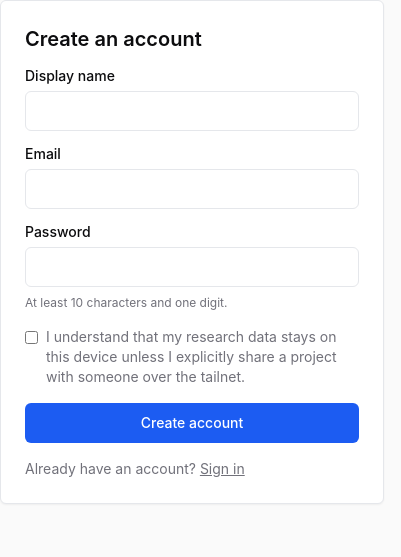
SignupForm › rejects weak passwords client-side
Click the checkbox with test id "signup-tos". click: {"x": 32, "y": 338}
box: x1=25 y1=331 x2=38 y2=344
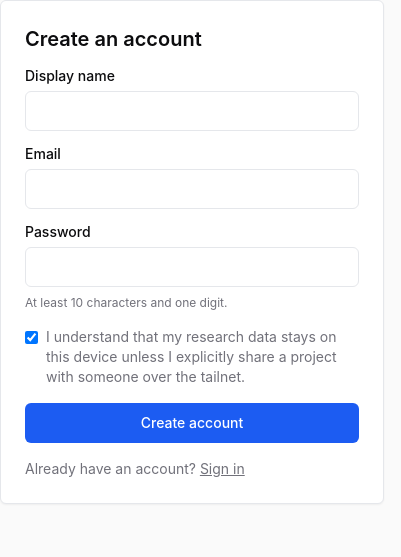
Type "Alice" into the field labelled "Display name". click: {"x": 192, "y": 111}
box: x1=25 y1=91 x2=359 y2=131
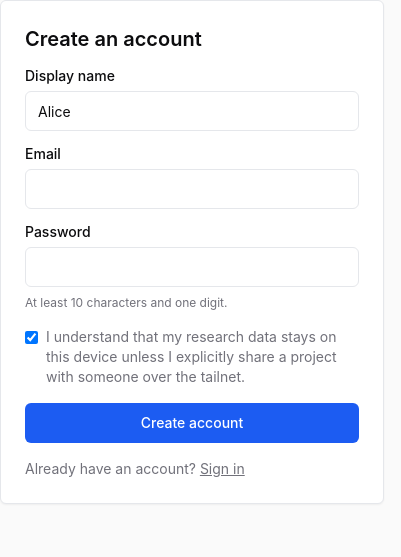
Type "a@b.com" into the field labelled "Email". click: {"x": 192, "y": 189}
box: x1=25 y1=169 x2=359 y2=209
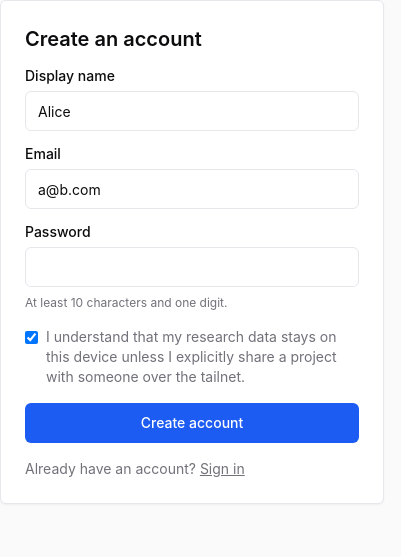
Type "short" into the password field labelled "Password". click: {"x": 192, "y": 267}
box: x1=25 y1=247 x2=359 y2=287
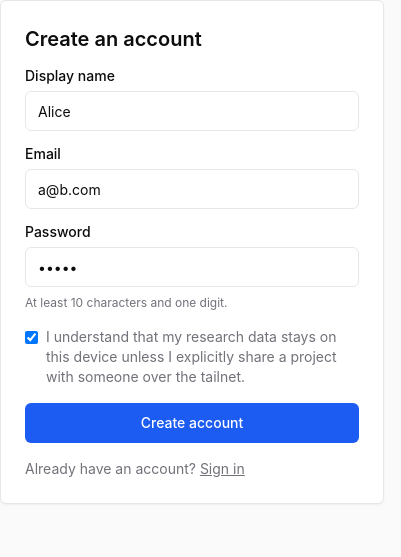
Submit the form with test id "signup-form"
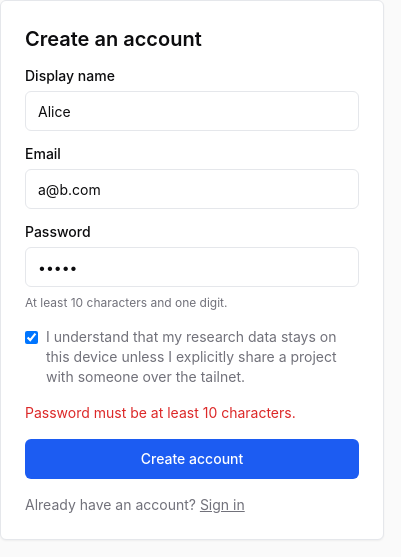
Now the message with test id "signup-error" shows "10 characters", box x1=25 y1=404 x2=296 y2=421
